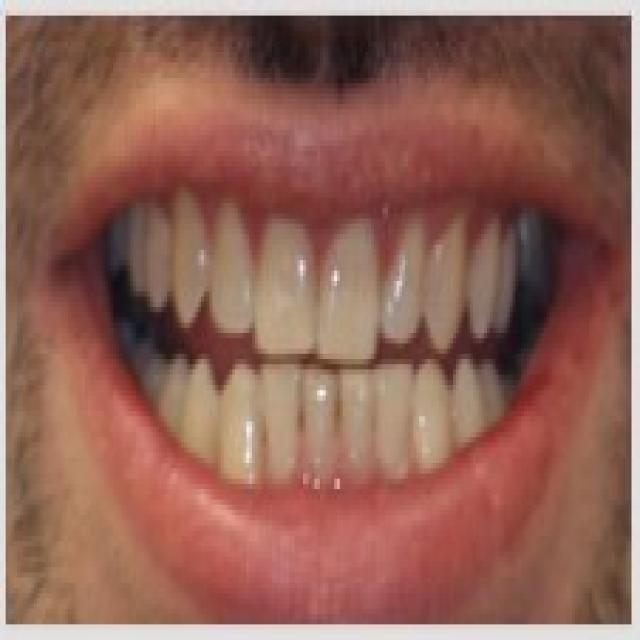tooth: (249, 208, 317, 380), (317, 208, 377, 370), (224, 344, 278, 515), (260, 359, 323, 484), (317, 380, 394, 479), (388, 359, 450, 463), (425, 213, 467, 364), (212, 208, 255, 354), (172, 348, 224, 452), (136, 208, 184, 307), (178, 208, 218, 323), (476, 214, 504, 344), (442, 344, 487, 422), (388, 229, 416, 338)
